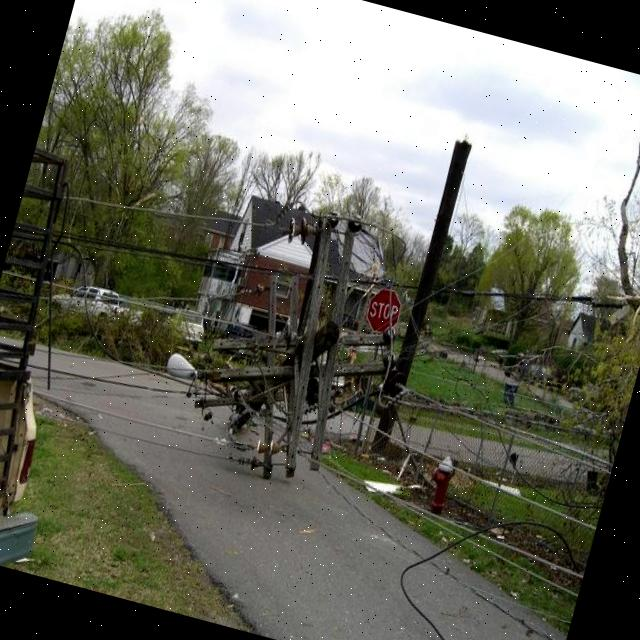Broken Pole: (162, 206, 427, 495)
